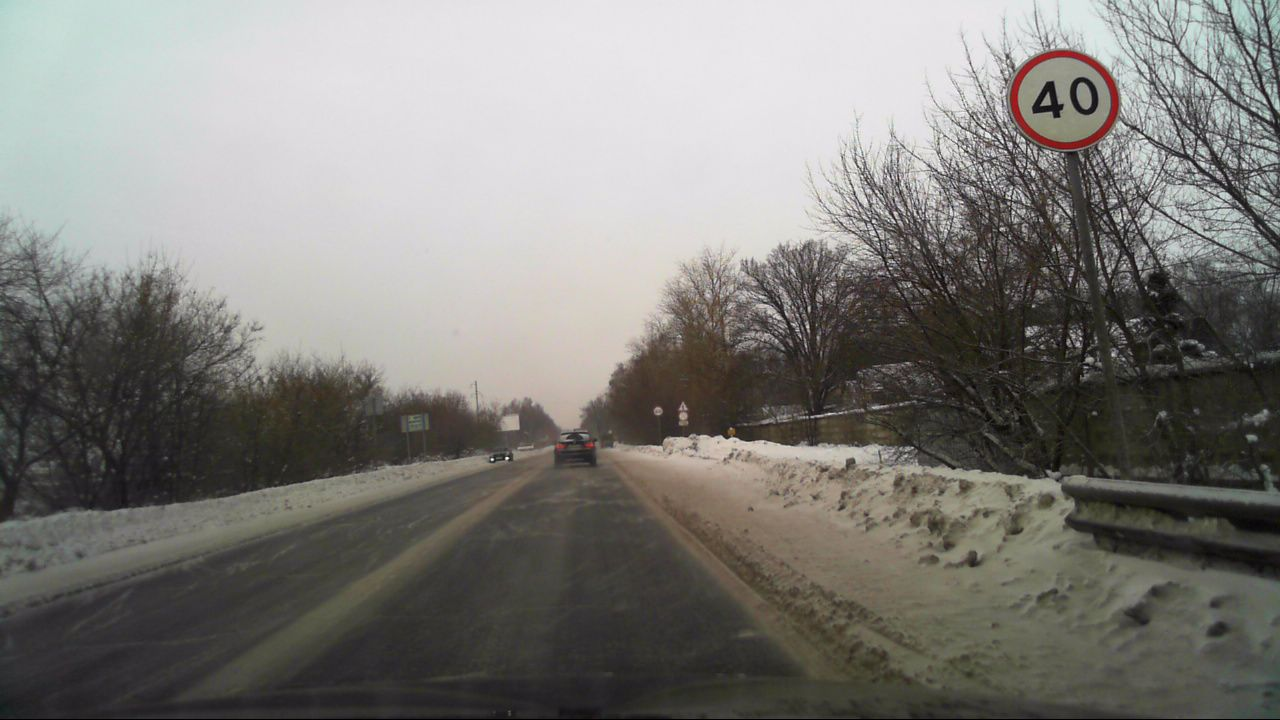speed_warning_40: (1007, 47, 1123, 152)
